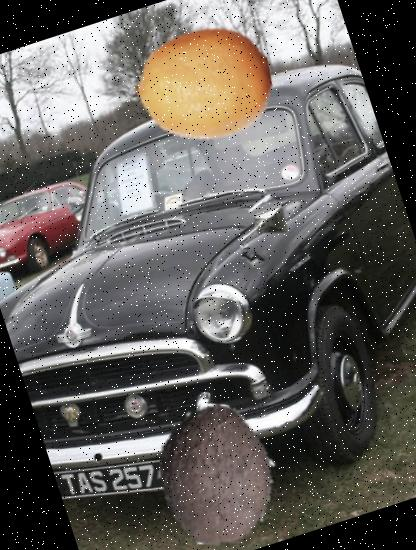Cocos: (126, 385, 304, 550)
Lemon: (115, 0, 289, 171)
